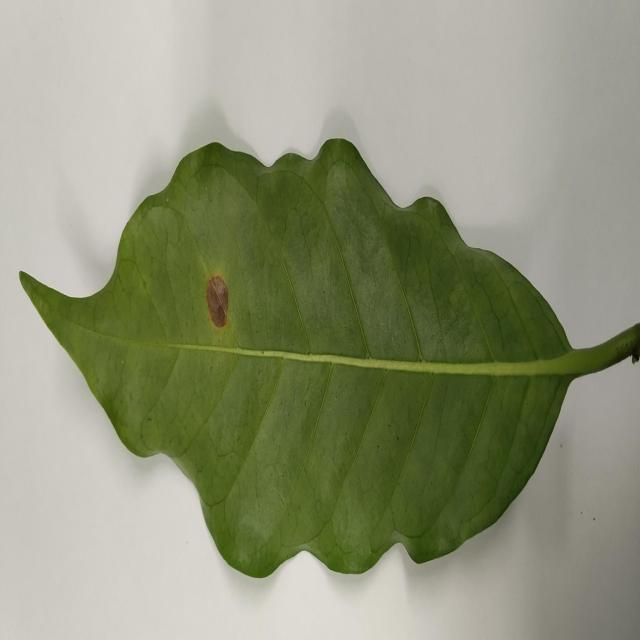Enfermedad-Mancha-de-hierro: (19, 139, 599, 581)
